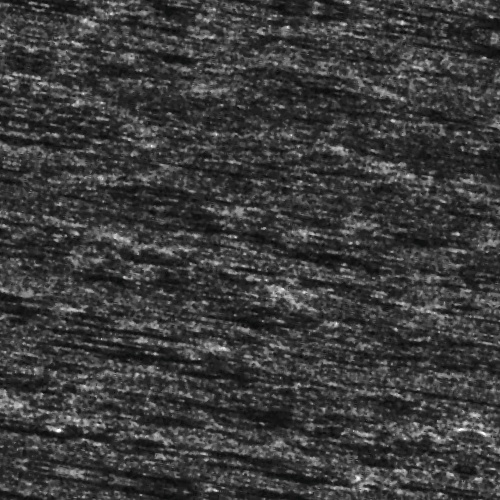object: (18, 329, 123, 340), (180, 343, 285, 352), (212, 485, 265, 490)
shadow: (361, 114, 500, 123), (122, 343, 232, 352), (56, 485, 238, 490), (0, 329, 70, 340)
